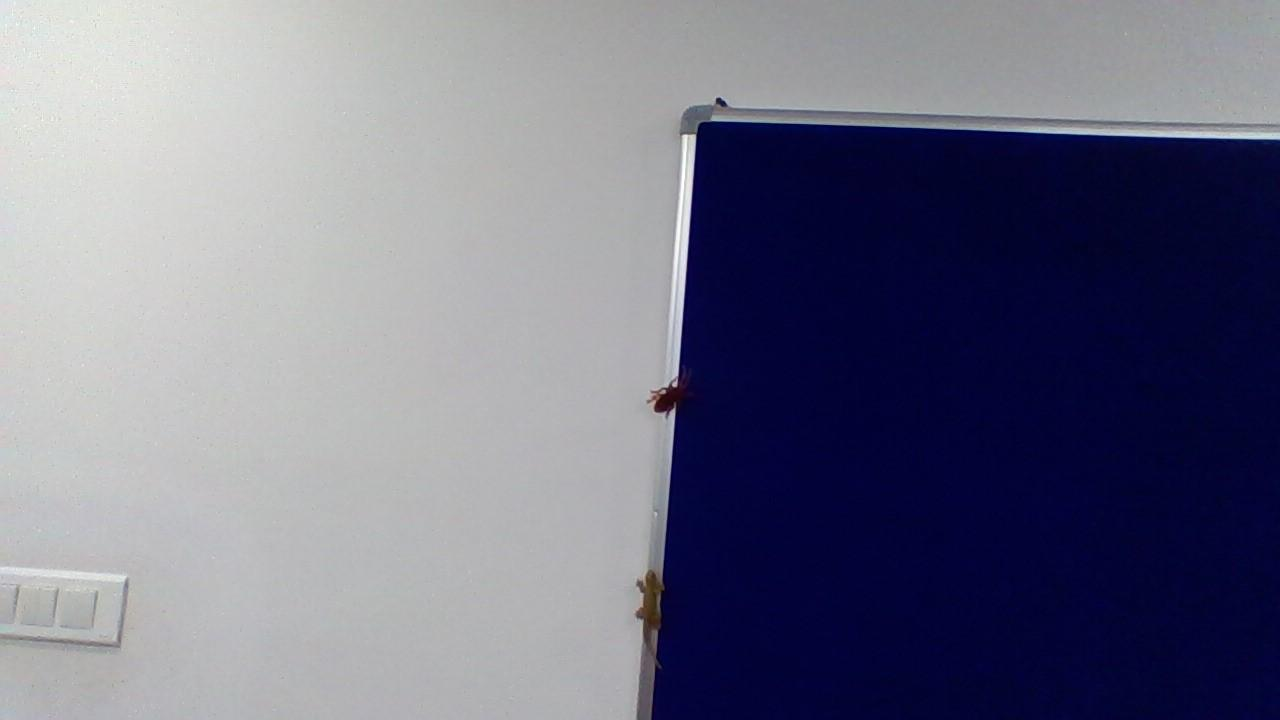cockroach: (643, 372, 708, 440)
lizard: (627, 545, 677, 681)
